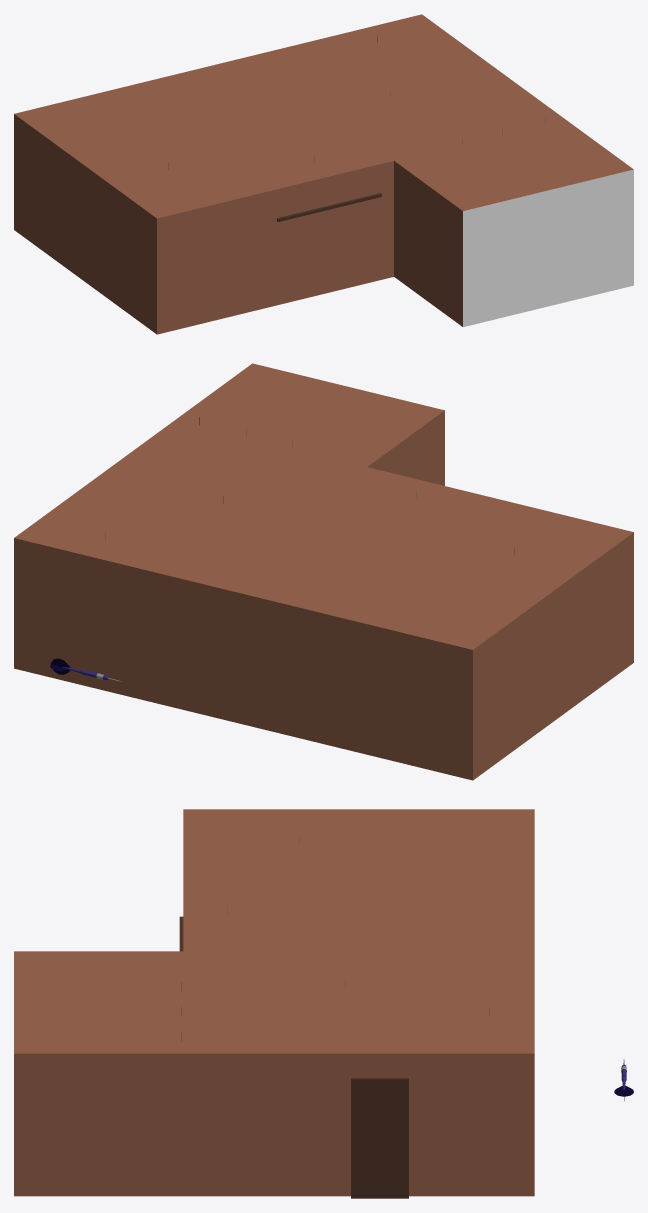
The model's file is DardosMinigame.fbx.
3 views of the same model, one above another, from view 1: azimuth 30°, elevation 25°; view 2: azimuth 150°, elevation 25°; view 3: azimuth 270°, elevation 25° (orthographic). The views are drawn at different scales.
Visible parts, largest first — view 1: estrutura geral, prateleira; view 2: estrutura geral; view 3: estrutura geral, porta.
Part boxes in pixels (left/top/right/bottom): estrutura geral: left=14, top=14, right=633, bottom=334; prateleira: left=277, top=193, right=381, bottom=221; estrutura geral: left=14, top=363, right=633, bottom=780; estrutura geral: left=14, top=809, right=534, bottom=1196; porta: left=351, top=1078, right=408, bottom=1198.
Size of the model in its own units: 2343 by 678 by 2496.
